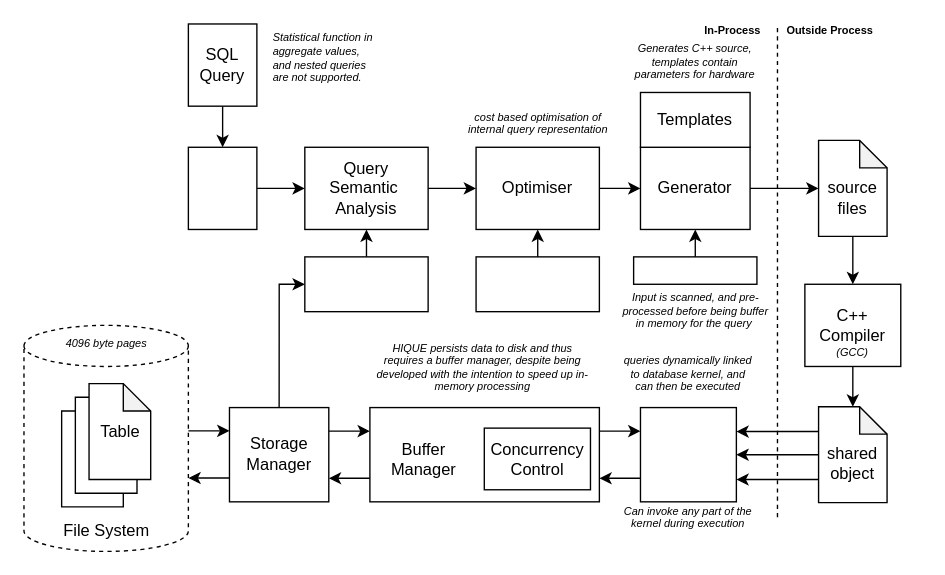
The diagram is 945 pixels wide and 575 high, and some of its shapes have lost their labels. The shapes that lost their labels are listed below. From the top down, each one's centre as x and y in pixels, then its label:
point 222,187: Parser
point 365,284: Catalogue
point 537,284: Statistics
point 694,270: Data Staging
point 687,454: Query Executor
